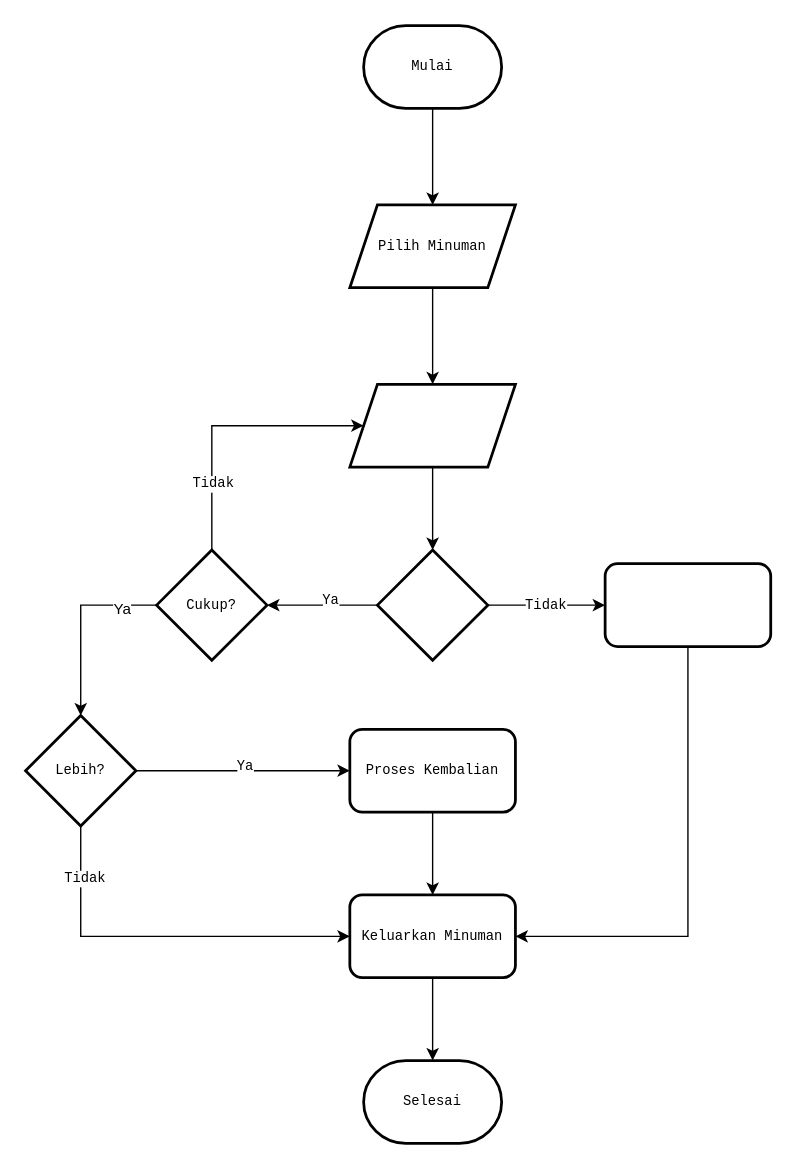
The diagram is 795 pixels wide and 1167 high, and some of its shapes have lost their labels. The box of each missing label's shape, as (x1, y1, x2, y2) in pixels:
Bayar: (348, 382, 516, 468)
Generate QRIS: (603, 562, 771, 647)
Tunai?: (375, 548, 489, 661)
